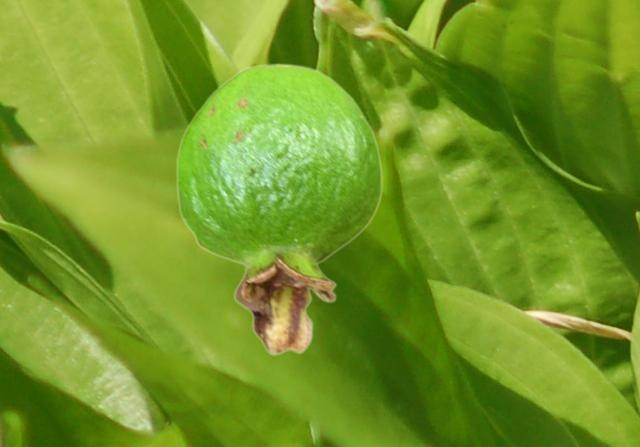guava: (175, 62, 382, 355)
